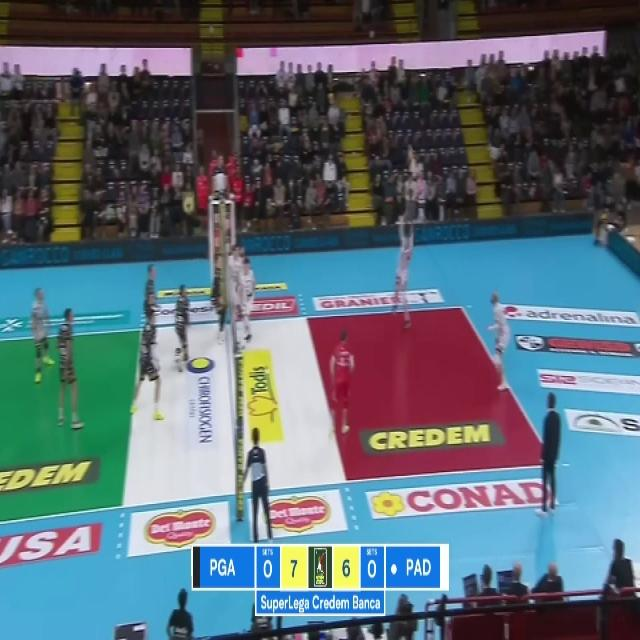volleyball court: (0, 303, 544, 523)
